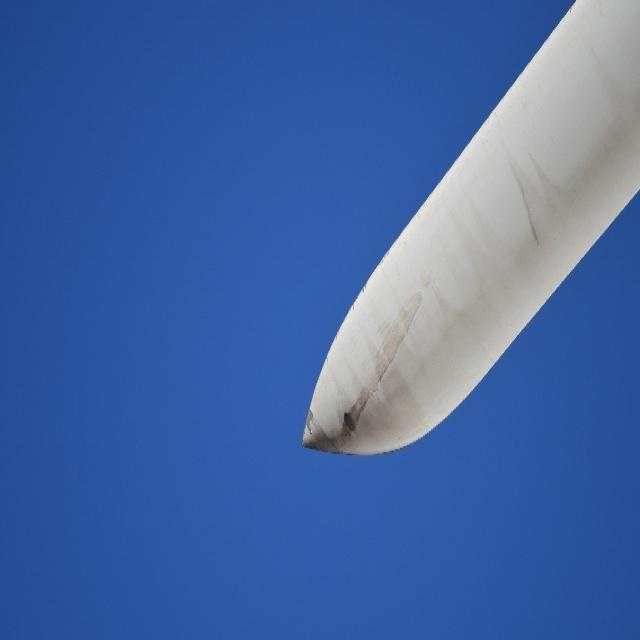Burn Mark: (339, 409, 364, 443)
Coating_defects: (300, 407, 320, 444)
